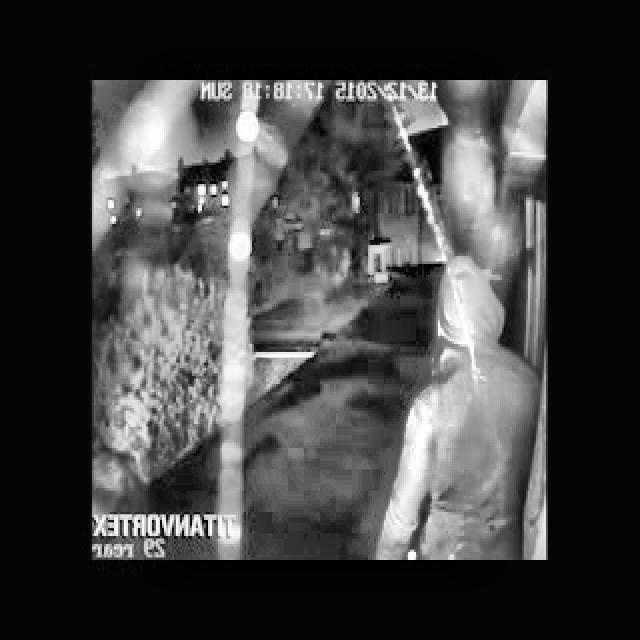burglary: (378, 238, 546, 560)
